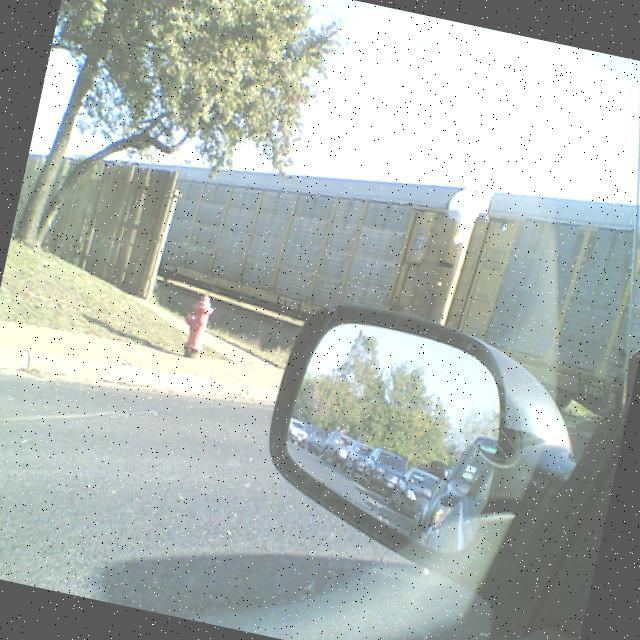fire_hydrant: (177, 290, 215, 359)
